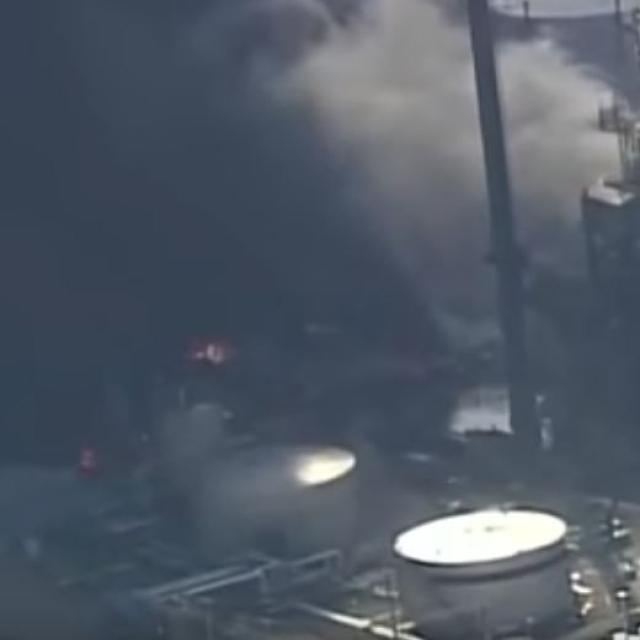Smoke: (323, 8, 616, 299), (178, 431, 301, 536)
